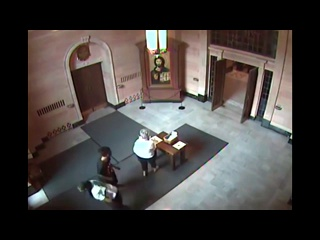Vandalism: (78, 146, 121, 200), (153, 130, 187, 171), (132, 128, 159, 177), (97, 146, 121, 186)
